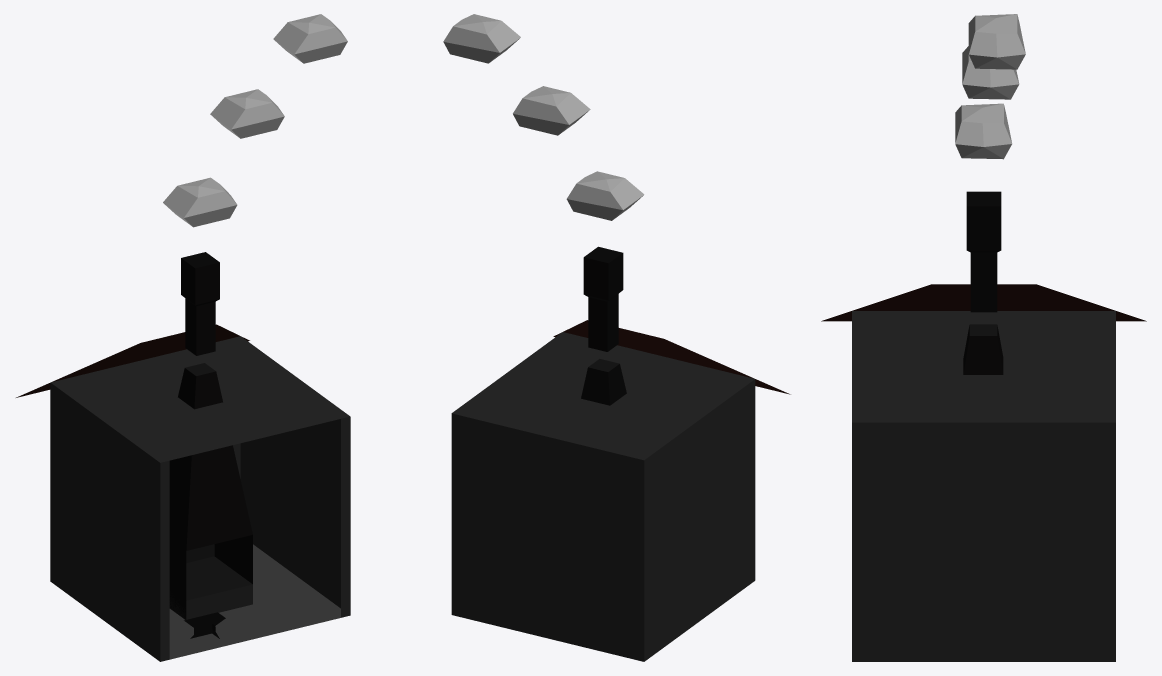
The model's file is blacksmith.obj.
3 renders of one model, left to right at view 1: azimuth 30°, elevation 25°; view 2: azimuth 150°, elevation 25°; view 3: azimuth 270°, elevation 25°, orthographic. The views are drawn at different scales.
Visible parts, largest first — view 1: Cube, Cube.002_Cube.003, Cube.001_Cube.002, Cube.008_Cube.001, Cube.008_Cube.009, Cube.008_Cube.000, Plane, Cube.008_Cube.002; view 2: Cube, Cube.001_Cube.002, Cube.008_Cube.000, Cube.008_Cube.009, Cube.008_Cube.001, Plane, Cube.002_Cube.003; view 3: Cube, Plane, Cube.001_Cube.002, Cube.008_Cube.001, Cube.008_Cube.009, Cube.002_Cube.003, Cube.008_Cube.000.
Part boxes in pixels (box(x1,y1,x2,y2)): Cube: box(50, 336, 350, 661); Cube.002_Cube.003: box(169, 363, 252, 619); Cube.001_Cube.002: box(181, 252, 219, 355); Cube.008_Cube.001: box(273, 14, 347, 63); Cube.008_Cube.009: box(163, 177, 237, 227); Cube.008_Cube.000: box(210, 89, 284, 138); Plane: box(16, 324, 249, 397); Cube.008_Cube.002: box(184, 612, 225, 638); Cube: box(451, 332, 755, 661); Cube.001_Cube.002: box(583, 246, 623, 351); Cube.008_Cube.000: box(513, 86, 590, 135); Cube.008_Cube.009: box(566, 171, 644, 220); Cube.008_Cube.001: box(443, 14, 520, 63); Plane: box(553, 320, 790, 394); Cube.002_Cube.003: box(581, 359, 626, 405); Cube: box(852, 311, 1115, 661); Plane: box(821, 284, 1146, 321); Cube.001_Cube.002: box(966, 191, 1001, 312); Cube.008_Cube.001: box(968, 14, 1025, 69); Cube.008_Cube.009: box(955, 103, 1012, 159); Cube.002_Cube.003: box(963, 324, 1003, 374); Cube.008_Cube.000: box(962, 46, 1019, 99).
Bounding box in the file's own units: 27.77 × 54.7 × 24.8.
